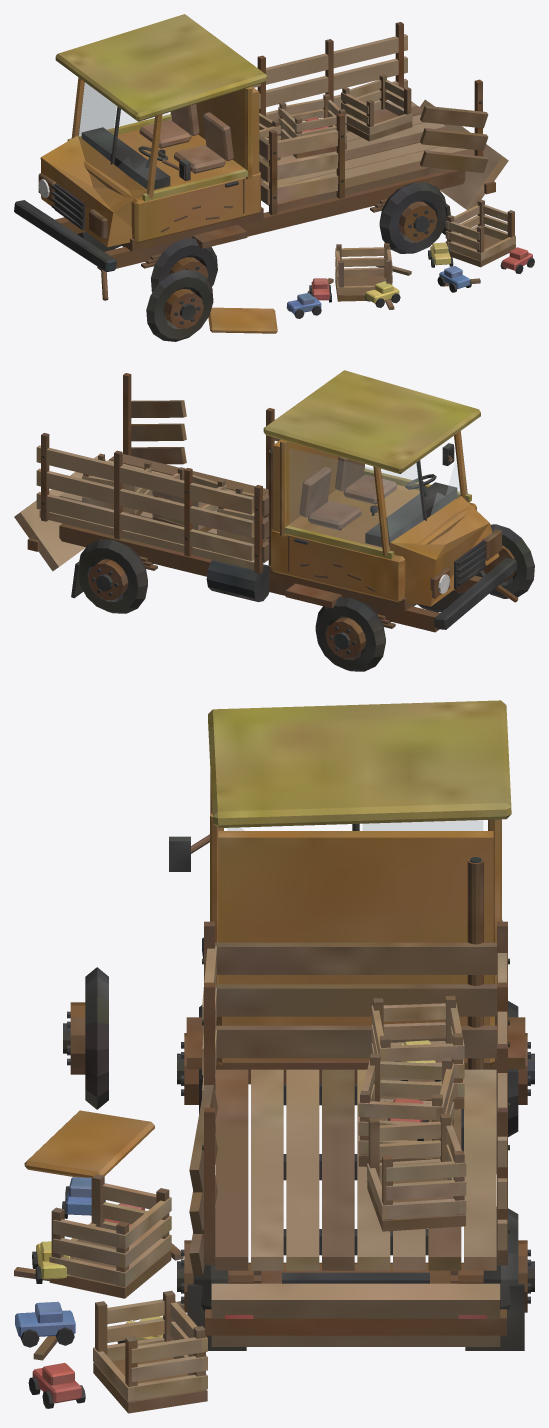
File: JV09_wrecked_truck_v2.glb
3 renders of one model, top to bottom at view 1: azimuth 30°, elevation 25°; view 2: azimuth 150°, elevation 25°; view 3: azimuth 270°, elevation 25°, orthographic. The views are drawn at different scales.
Visible parts, largest first — view 1: Ladder chassis left; view 2: Ladder chassis left; view 3: Ladder chassis left.
Part boxes in pixels (x1=…): Ladder chassis left: x1=14, y1=14, x2=534, y2=341; Ladder chassis left: x1=14, y1=370, x2=534, y2=671; Ladder chassis left: x1=14, y1=700, x2=534, y2=1413.
Size of the model in its own units: 7 by 3.5 by 4.07.
14 materials, 13 textured.
